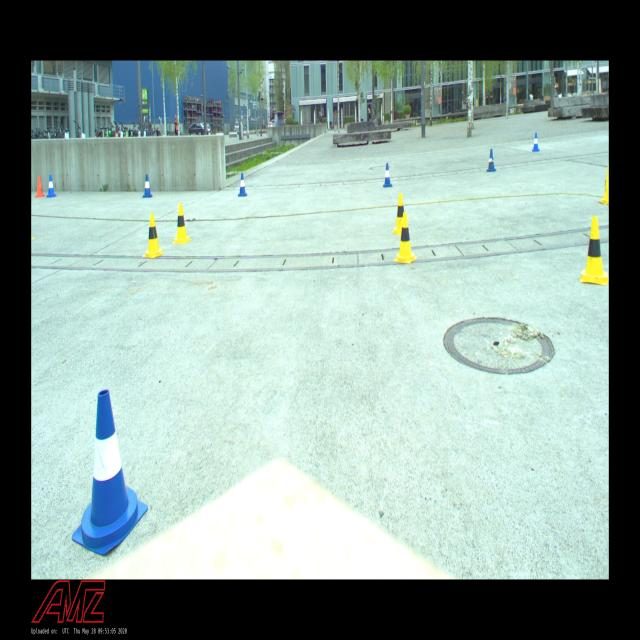blue_cone: (72, 392, 148, 556), (485, 148, 498, 172), (382, 163, 394, 187), (142, 174, 153, 198), (237, 173, 248, 196), (46, 174, 57, 197), (532, 132, 540, 152)
orange_cone: (34, 174, 45, 197)
yellow_cone: (578, 217, 608, 285), (392, 213, 417, 264), (142, 213, 164, 259), (391, 192, 410, 234), (172, 204, 191, 244)
